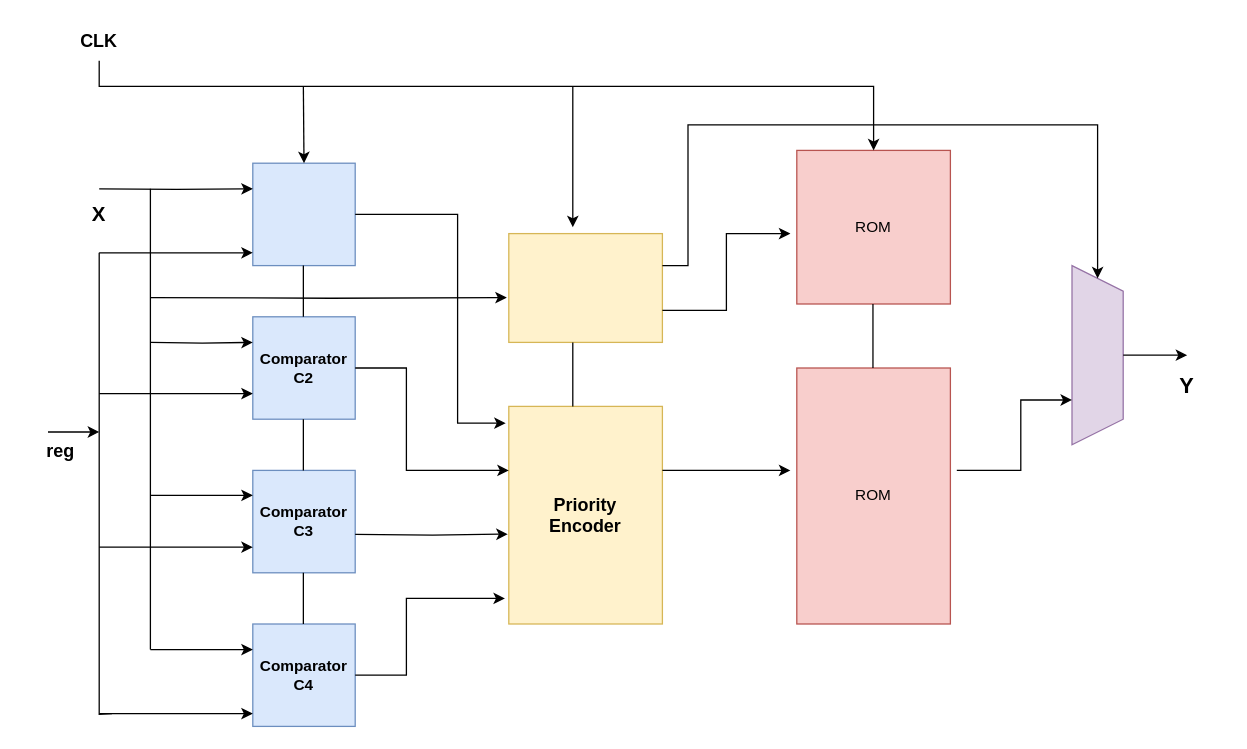
The diagram is 1247 pixels wide and 749 high, and some of its shapes have lost their labels. The centre of each missing label's shape, as x and y in pixels:
"comparator C1" belongs at (x=303, y=214).
"MUX" belongs at (x=1097, y=354).
"Special Case" belongs at (x=585, y=287).
